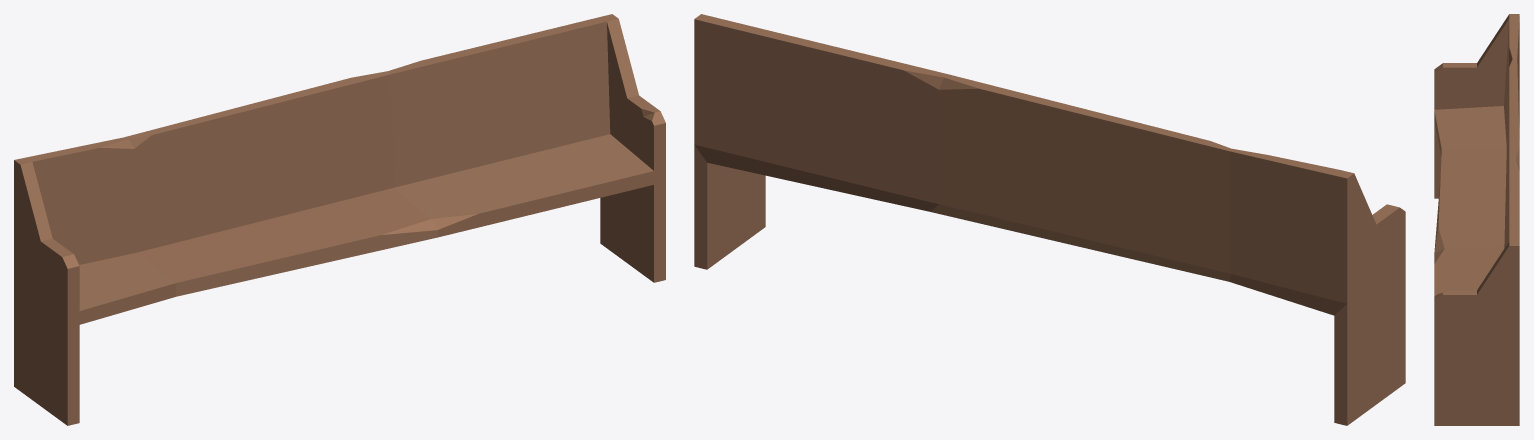
The model's file is pew.glb.
3 views of the same model, side by side, from view 1: azimuth 30°, elevation 25°; view 2: azimuth 150°, elevation 25°; view 3: azimuth 270°, elevation 25° (orthographic). The views are drawn at different scales.
Visible parts, largest first — view 1: SM_Prop_Church_Pew_01; view 2: SM_Prop_Church_Pew_01; view 3: SM_Prop_Church_Pew_01.
Part boxes in pixels (x1,y1,x2,y2): SM_Prop_Church_Pew_01: (14,14,665,425); SM_Prop_Church_Pew_01: (694,14,1405,425); SM_Prop_Church_Pew_01: (1434,14,1519,425).
Bounding box in the file's own units: 3.09 × 1.12 × 0.4807.
Materials: 1 (1 with a texture image).
